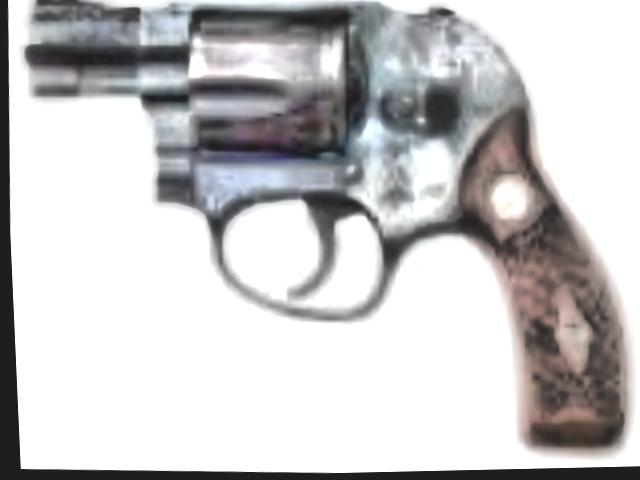pistol: (5, 0, 636, 458)
